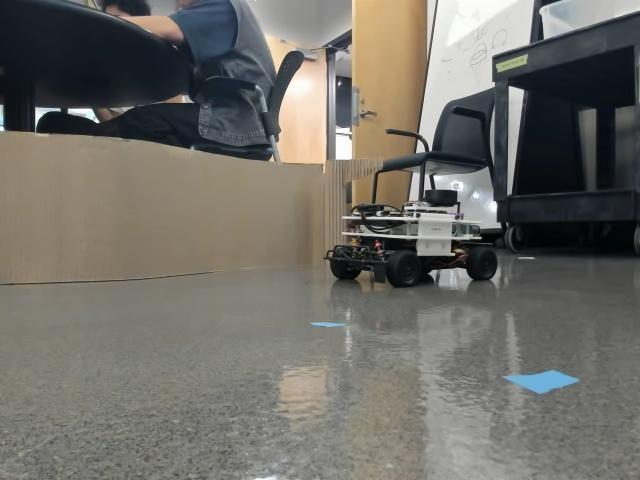Car: (323, 188, 498, 285)
